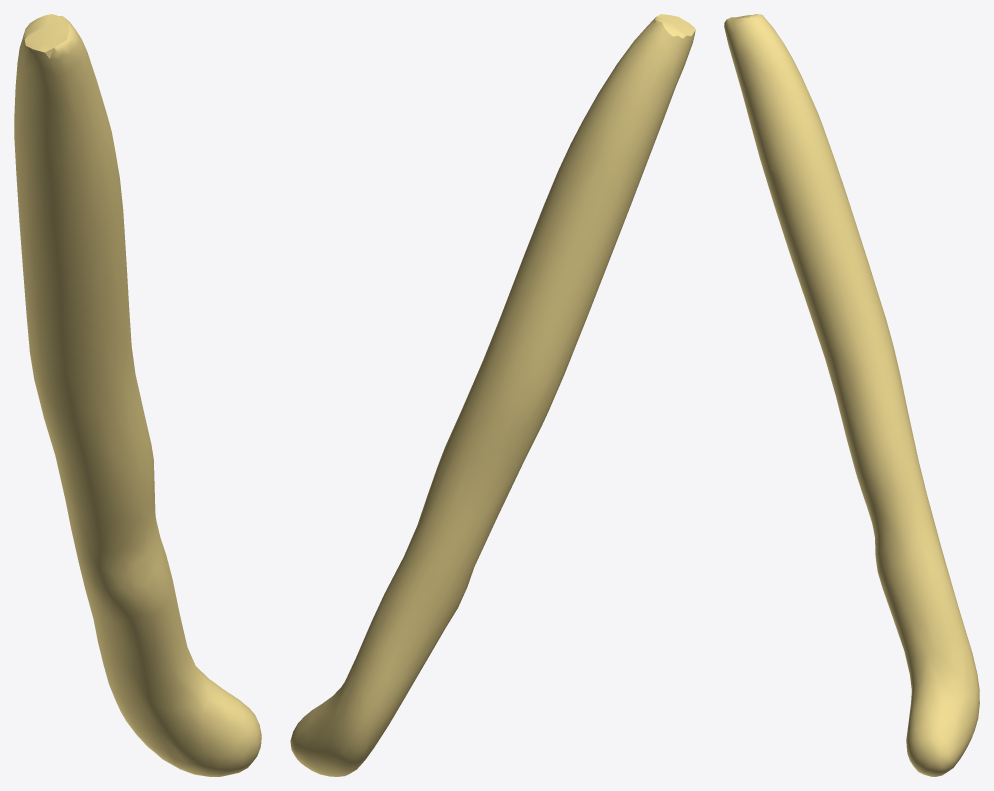
Rendered from fma223404_mm2615m.glb.
3 views of the same model, side by side, from view 1: azimuth 30°, elevation 25°; view 2: azimuth 150°, elevation 25°; view 3: azimuth 270°, elevation 25° (orthographic). The views are drawn at different scales.
Parts seen in each view (by area): view 1: FMA223404_MM2615M; view 2: FMA223404_MM2615M; view 3: FMA223404_MM2615M.
Boxes of the visible parts, x1,y1,x2,y2 form: FMA223404_MM2615M: (14, 14, 261, 776); FMA223404_MM2615M: (290, 14, 695, 776); FMA223404_MM2615M: (724, 14, 979, 776).
Bounding box in the file's own units: 0.00649 × 0.0157 × 0.00555.
